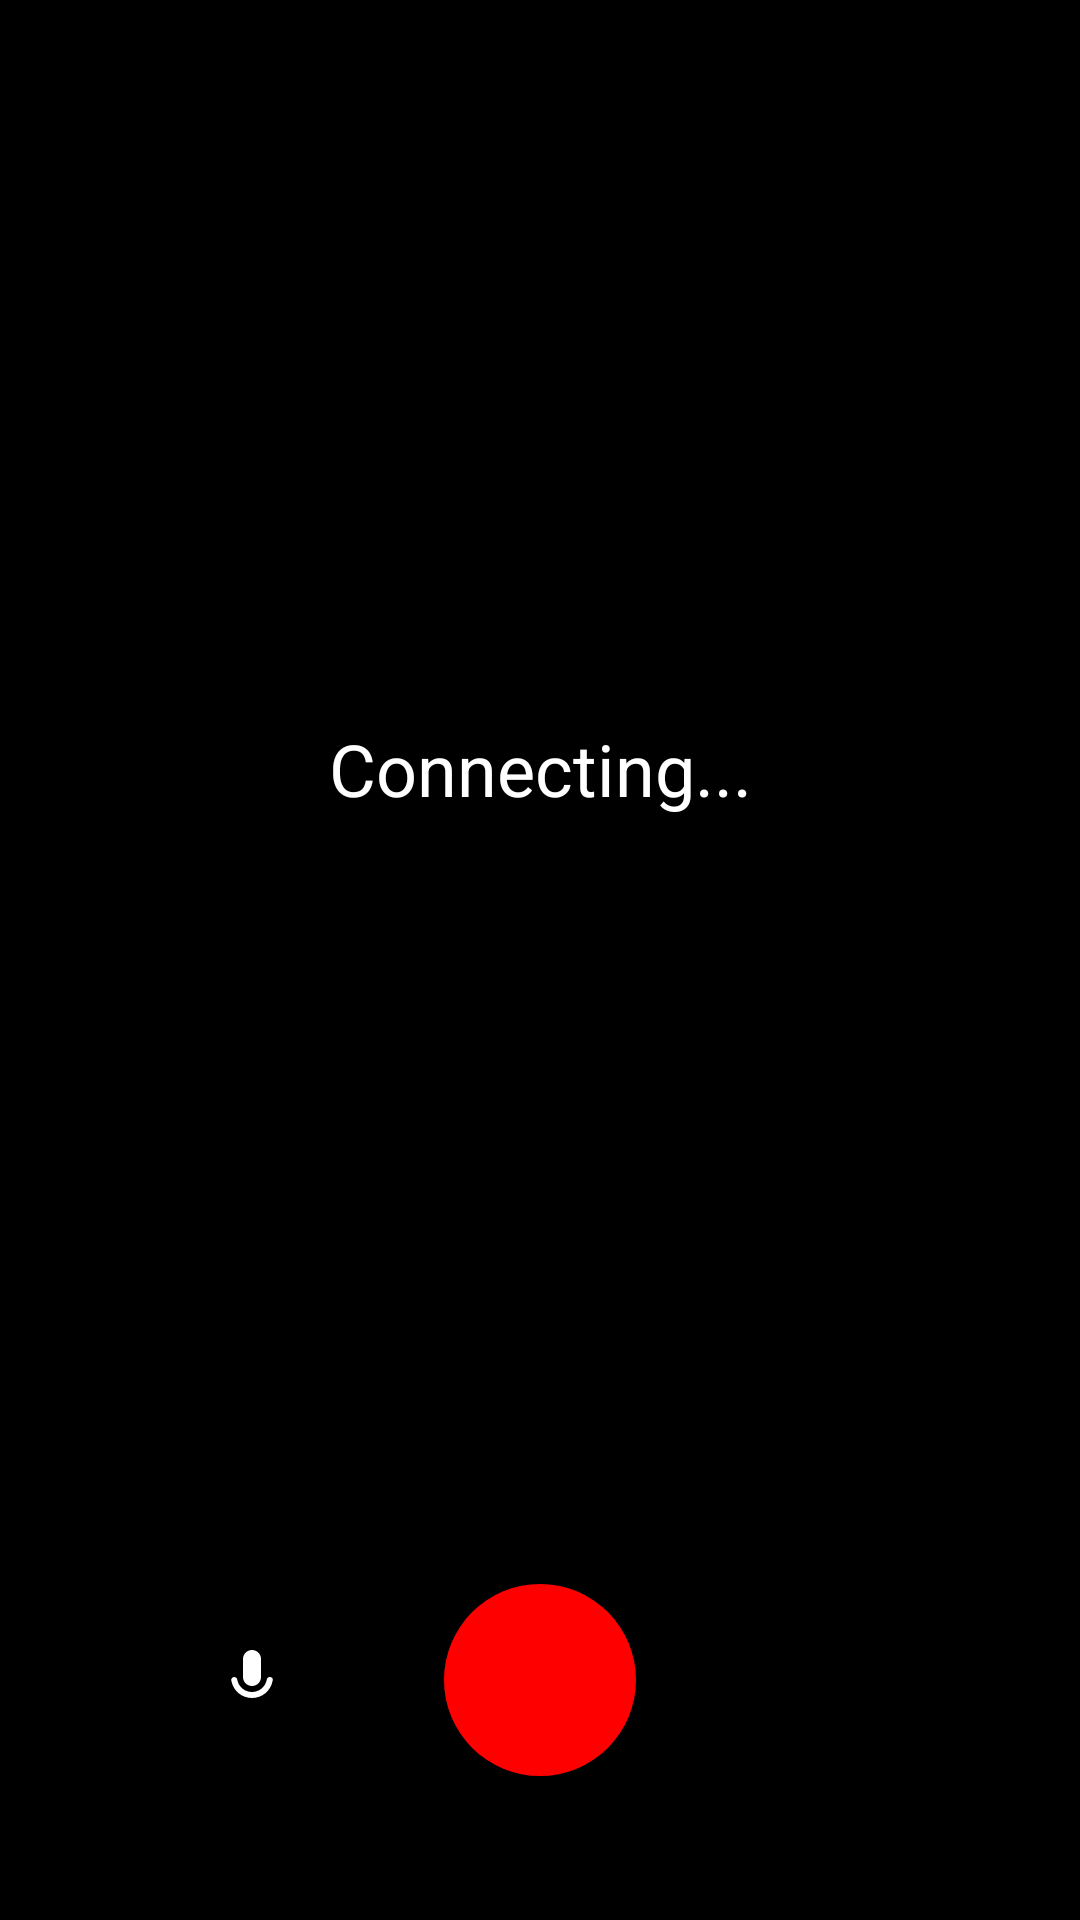

Locate icon controls on the screen. Image size 1080×1920, boxes as (x1, y1, x2, y2).
Toggle Mute: (231, 1650, 273, 1698)
